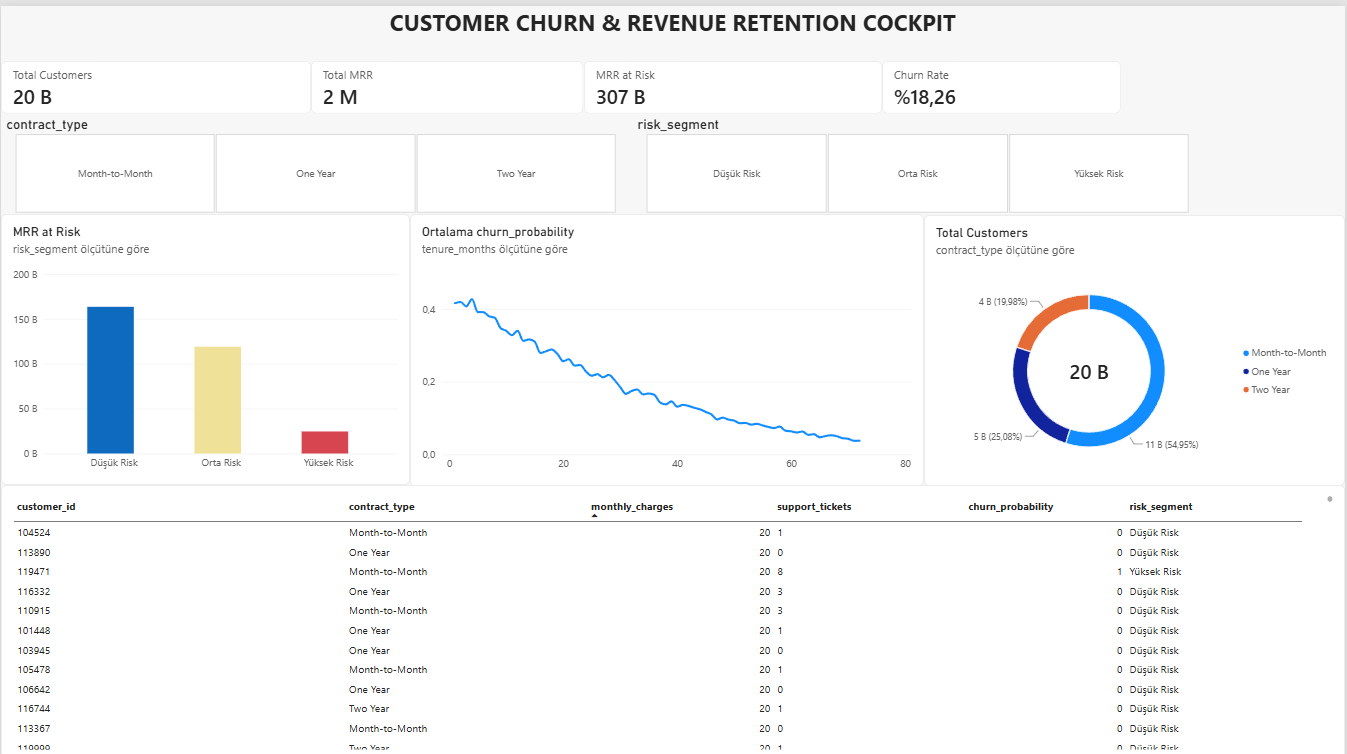

This screenshot's page, from the dashboard's own definition file:
{"tool":"powerbi","page":{"name":"1. sayfa","canvas":[1920,1080],"ordinal":0},"visuals":[{"type":"textbox","box":[0,0,1920,58],"z":0},{"type":"cardVisual","fields":{"Data":["telecom_churn_dataset.Total Customers"]},"box":[0,78.8,443.5,75.9],"z":1000},{"type":"cardVisual","fields":{"Data":["telecom_churn_dataset.MRR at Risk"]},"box":[833.1,78.8,426,75.9],"z":2000},{"type":"cardVisual","fields":{"Data":["telecom_churn_dataset.Churn Rate"]},"box":[1259.1,78.8,341.4,75.9],"z":3000},{"type":"cardVisual","fields":{"Data":["telecom_churn_dataset.Total MRR"]},"box":[443.5,78.8,389.5,75.9],"z":4000},{"type":"slicer","fields":{"Values":["telecom_churn_dataset.contract_type"]},"box":[0,157.1,897.1,140],"z":5000},{"type":"slicer","fields":{"Values":["telecom_churn_dataset.risk_segment"]},"box":[901.4,157.1,814.3,140],"z":6000},{"type":"clusteredColumnChart","fields":{"Category":["telecom_churn_dataset.risk_segment"],"Y":["telecom_churn_dataset.MRR at Risk"]},"box":[0,297.5,584.3,387.1],"z":7000},{"type":"donutChart","fields":{"Category":["telecom_churn_dataset.contract_type"],"Y":["telecom_churn_dataset.Total Customers"]},"box":[1318.6,298.6,601.4,387.1],"z":7001},{"type":"lineChart","fields":{"Category":["telecom_churn_dataset.tenure_months"],"Y":["Avg(telecom_churn_dataset.churn_probability)"]},"box":[584.3,298.6,734.3,387.1],"z":7002},{"type":"tableEx","fields":{"Values":["telecom_churn_dataset.customer_id","telecom_churn_dataset.contract_type","telecom_churn_dataset.monthly_charges","telecom_churn_dataset.support_tickets","telecom_churn_dataset.churn_probability","telecom_churn_dataset.risk_segment"]},"box":[0,685,1920,395],"z":7003}]}

Visuals, with their boxes in screenshot pixels (x1, y1, x2, y2), scaled from the page's 1920x1080 canvas onto the 1347x754 screenshot:
textbox: box(0, 0, 1346, 40)
cardVisual - telecom_churn_dataset.Total Customers: box(0, 55, 311, 108)
cardVisual - telecom_churn_dataset.MRR at Risk: box(584, 55, 883, 108)
cardVisual - telecom_churn_dataset.Churn Rate: box(883, 55, 1123, 108)
cardVisual - telecom_churn_dataset.Total MRR: box(311, 55, 584, 108)
slicer - telecom_churn_dataset.contract_type: box(0, 110, 629, 207)
slicer - telecom_churn_dataset.risk_segment: box(632, 110, 1204, 207)
clusteredColumnChart - telecom_churn_dataset.risk_segment x telecom_churn_dataset.MRR at Risk: box(0, 208, 410, 478)
donutChart - telecom_churn_dataset.contract_type x telecom_churn_dataset.Total Customers: box(925, 208, 1346, 479)
lineChart - telecom_churn_dataset.tenure_months x Avg(telecom_churn_dataset.churn_probability): box(410, 208, 925, 479)
tableEx - telecom_churn_dataset.customer_id x telecom_churn_dataset.contract_type: box(0, 478, 1346, 753)
